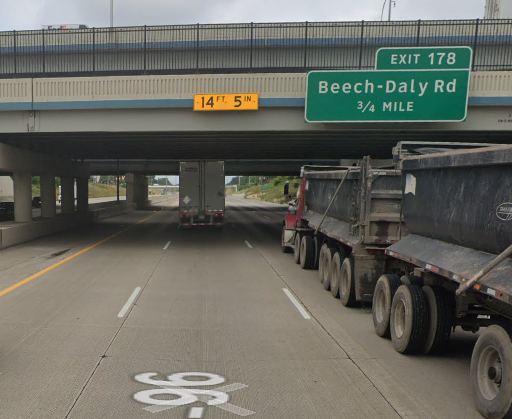1: (196, 93, 207, 111)
4: (204, 94, 215, 111)
5: (231, 94, 246, 111)
overheadsign: (192, 91, 258, 112)
